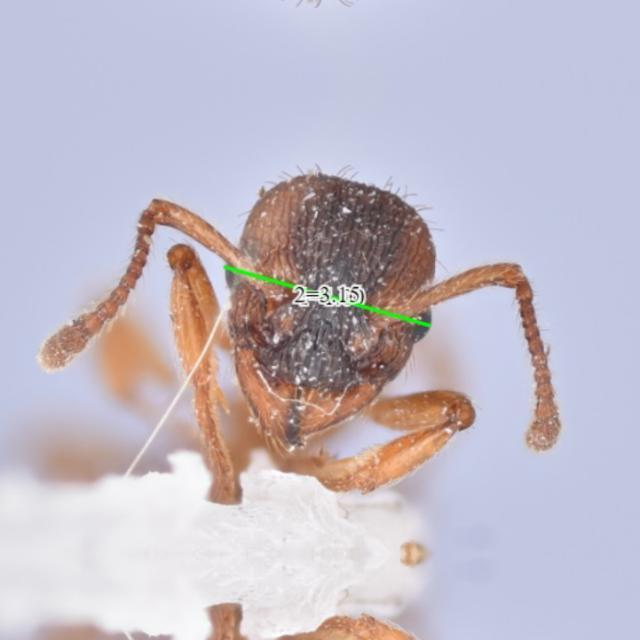Myrmica: (50, 122, 606, 520)
